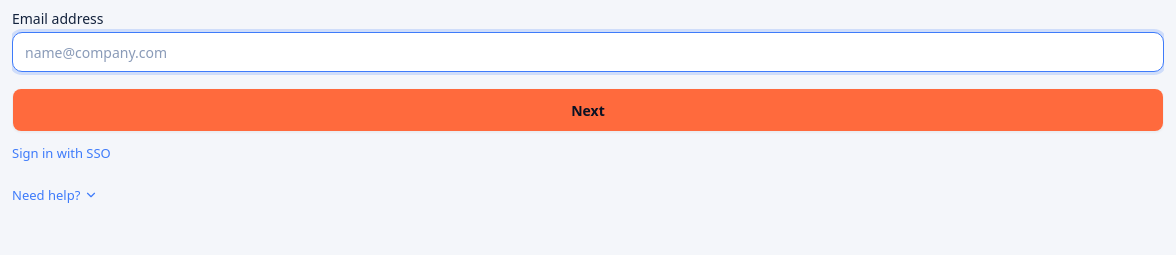
Test: SignInForm › checks the email before moving on
Click the button "Next" at (588, 110), box [12,88,1164,132]
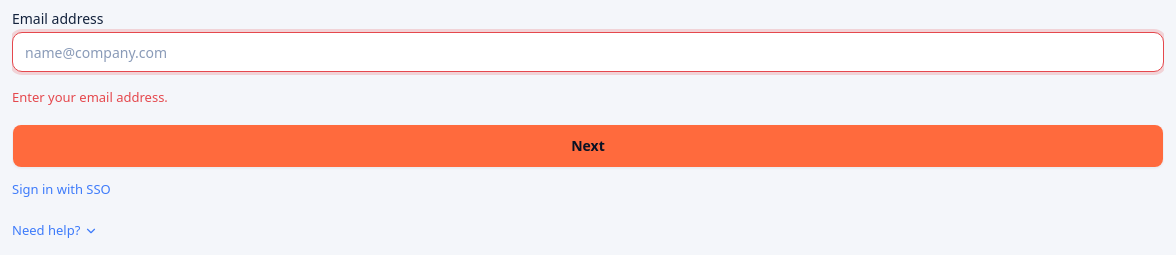
Expected: the message reads "Enter your email address.", [12,88,168,106]
Type "not-an-email" into the field labelled "Email address" at (588, 52), box [12,32,1164,72]
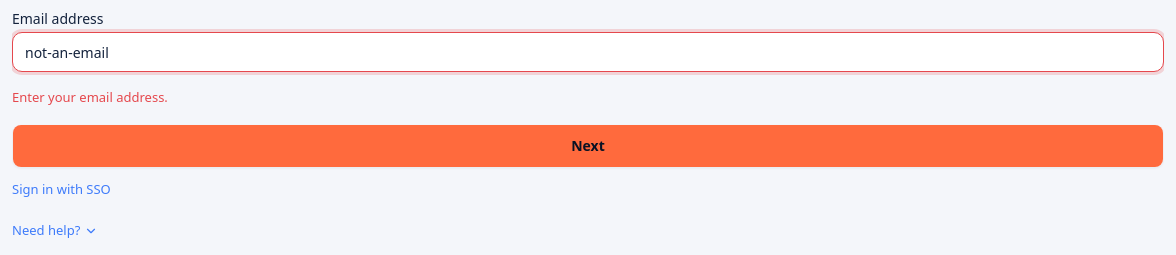
Click the button "Next" at (588, 146), box [12,124,1164,168]
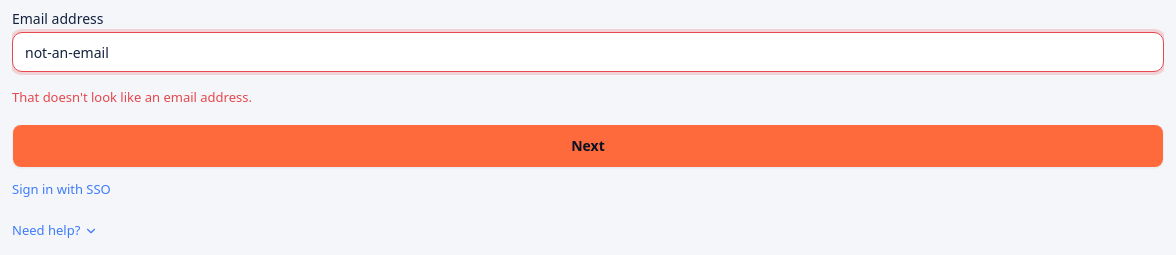
Expected: the message reads "That doesn't look like an email address.", [12,88,252,106]
